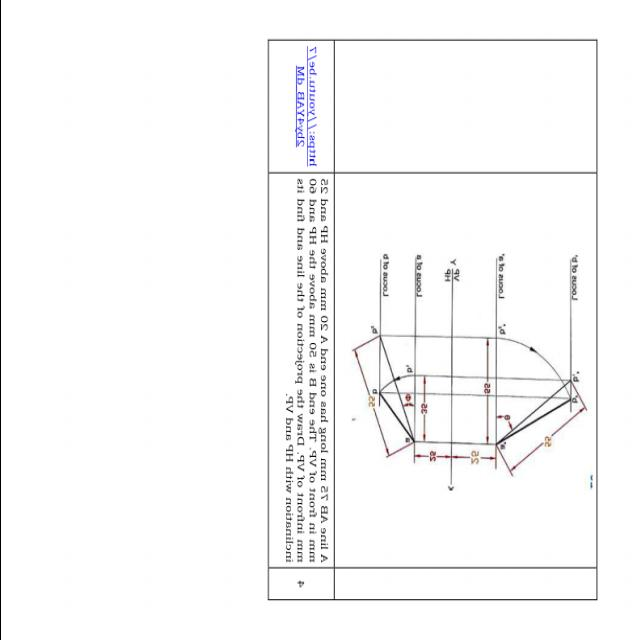Drawings: (348, 213, 596, 521)
